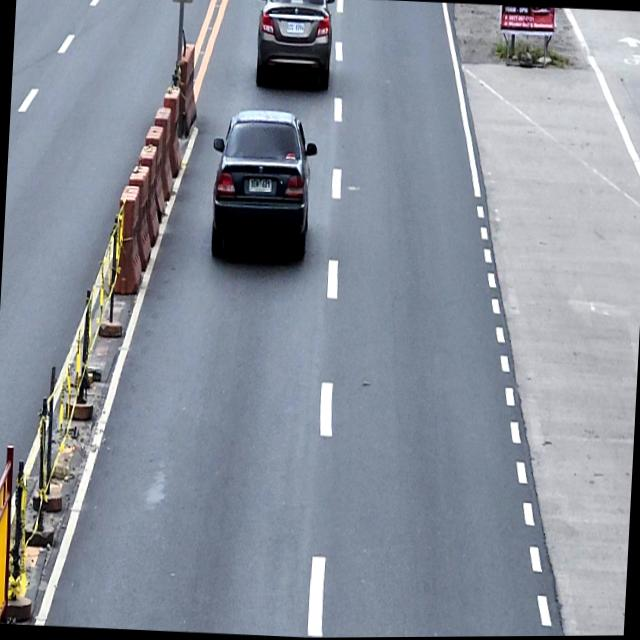Car: (208, 106, 320, 263), (251, 0, 335, 91)
License-Plate: (244, 174, 276, 196), (286, 22, 304, 34)
